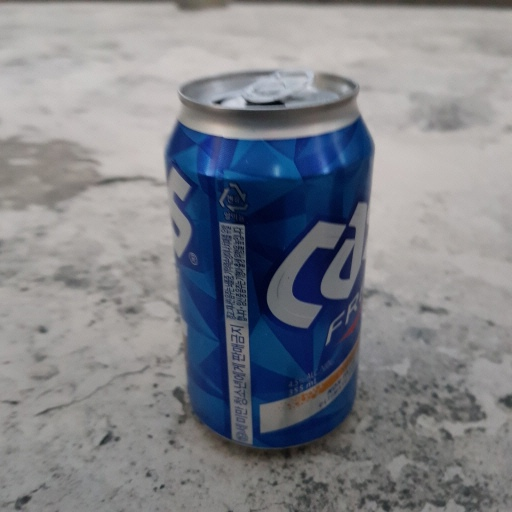Metal_0: (161, 61, 377, 448)
